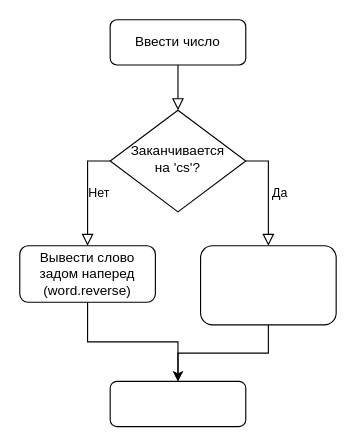
The diagram is 356 pixels wide and 446 high, and some of its shapes have lost their labels. The box of each missing label's shape, as (x1, y1, x2, y2) in pixels:
Вывести 2 в степени кол-во знаков в слове (2 ** word.length): (199, 245, 336, 325)
Конец: (109, 380, 246, 427)
